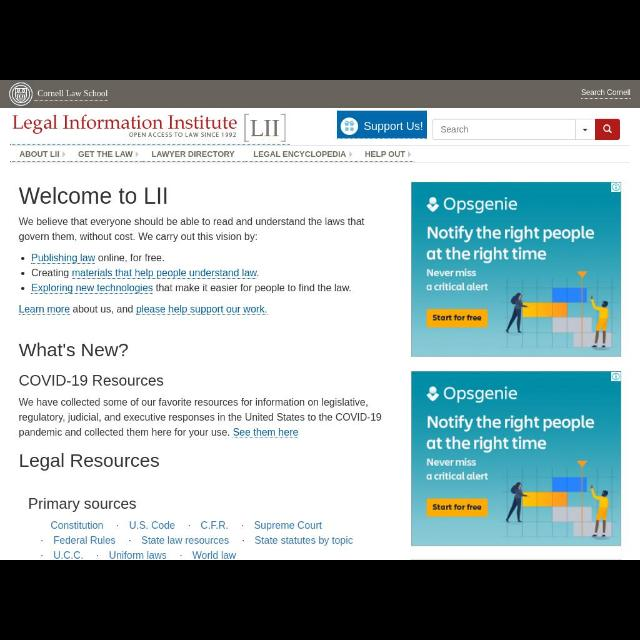icon: (10, 82, 32, 106), (340, 117, 358, 135), (604, 125, 612, 133), (135, 150, 139, 158), (408, 151, 412, 157), (349, 151, 353, 157), (62, 151, 66, 157), (22, 256, 24, 260), (22, 286, 24, 290), (583, 129, 587, 131), (22, 272, 24, 274)
iframe: (411, 182, 621, 356), (412, 372, 620, 546)
input: (434, 120, 620, 140)
link: (72, 268, 258, 278), (137, 305, 266, 315), (33, 284, 154, 294), (233, 428, 299, 438), (31, 254, 95, 264), (19, 305, 70, 315)
spinner: (254, 150, 352, 158), (79, 150, 139, 158), (20, 151, 66, 157), (366, 151, 412, 157)
text: (12, 115, 236, 134), (19, 398, 367, 408), (19, 413, 380, 422), (32, 284, 352, 294), (19, 217, 365, 226), (20, 428, 298, 438), (18, 305, 266, 315), (18, 187, 166, 203), (20, 232, 256, 242), (21, 454, 159, 471), (32, 269, 258, 279), (30, 498, 136, 512), (20, 376, 164, 386), (32, 253, 165, 263), (20, 344, 128, 356), (244, 114, 286, 142), (255, 536, 352, 546), (254, 150, 346, 158), (142, 536, 228, 544), (364, 121, 422, 132), (254, 521, 322, 529), (54, 536, 116, 544), (152, 151, 234, 157), (110, 551, 167, 559), (79, 150, 133, 158), (130, 133, 236, 137), (38, 90, 108, 96), (52, 521, 102, 529), (130, 521, 174, 529), (192, 551, 236, 559), (366, 150, 404, 158), (582, 89, 630, 95), (20, 151, 60, 157), (54, 551, 82, 559), (202, 522, 228, 528)
textbutton: (338, 111, 427, 139)
toolbar: (1, 80, 640, 162)
